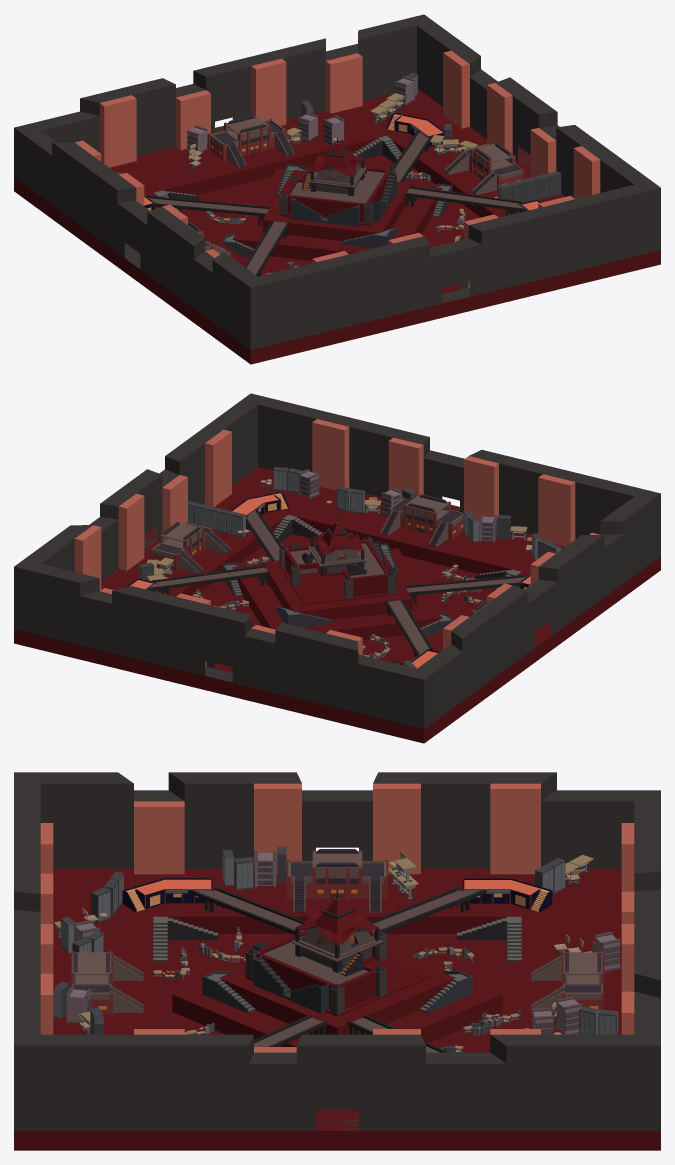
3 views of the same model, one above another, from view 1: azimuth 30°, elevation 25°; view 2: azimuth 150°, elevation 25°; view 3: azimuth 270°, elevation 25° (orthographic). The views are drawn at different scales.
Visible parts, largest first — view 1: 牆, 地板3, 場景建築, boss場景, 天橋, 樓梯, 矮櫃子, 高櫃子, 桌子, 椅子; view 2: 牆, 地板3, 場景建築, boss場景, 天橋, 高櫃子, 樓梯, 矮櫃子, 桌子; view 3: 牆, 地板3, 場景建築, boss場景, 樓梯, 高櫃子, 天橋, 矮櫃子, 桌子, 小高櫃子, 椅子, 小桌子.
Boxes of the visible parts, x1,y1,x2,y2 form: 牆: (14,14,660,349); 地板3: (14,89,660,364); 場景建築: (144,113,540,255); boss場景: (279,137,395,225); 天橋: (147,130,527,276); 樓梯: (154,136,452,257); 矮櫃子: (186,76,415,155); 高櫃子: (116,72,561,202); 桌子: (287,93,477,154); 椅子: (188,96,445,170); 牆: (14,393,660,728); 地板3: (14,467,660,743); 場景建築: (126,491,530,668); boss場景: (279,516,395,604); 天橋: (147,509,527,657); 高櫃子: (138,467,561,668); 樓梯: (222,515,520,663); 矮櫃子: (298,469,526,588); 桌子: (147,500,527,581); 牆: (14,772,660,1130); 地板3: (14,869,660,1150); 場景建築: (70,849,604,1015); boss場景: (245,890,429,1016); 樓梯: (153,916,521,1013); 高櫃子: (53,846,618,1034); 天橋: (188,886,486,1052); 矮櫃子: (66,851,621,1034); 桌子: (54,854,593,1034); 小高櫃子: (175,927,520,1052); 椅子: (77,851,594,1034); 小桌子: (153,935,519,1052).
Size of the model in its own units: 15000 by 3172 by 15000.
